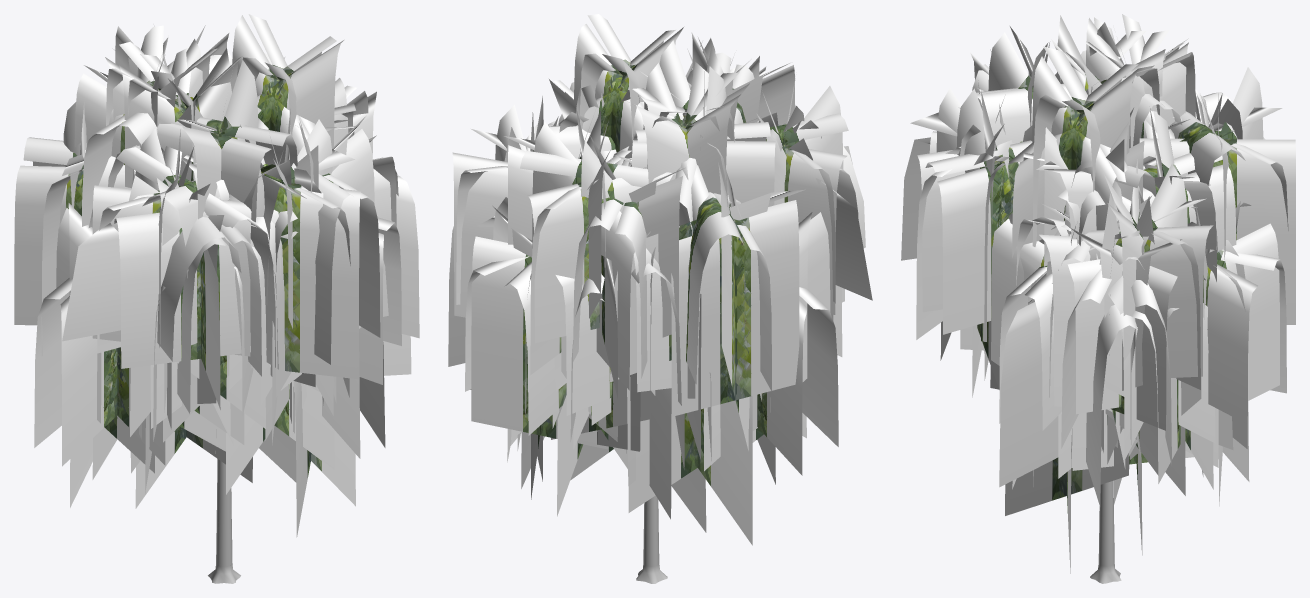
The model's file is White_Willow_Model_0.obj.
3 views of the same model, side by side, from view 1: azimuth 30°, elevation 25°; view 2: azimuth 150°, elevation 25°; view 3: azimuth 270°, elevation 25° (orthographic). The views are drawn at different scales.
Visible parts, largest first — view 1: Foliage, Bark; view 2: Foliage, Bark; view 3: Foliage, Bark.
Boxes of the visible parts, bbox=[...] form: Foliage: bbox=[14, 14, 419, 537]; Bark: bbox=[208, 459, 240, 583]; Foliage: bbox=[448, 14, 872, 545]; Bark: bbox=[636, 495, 667, 583]; Foliage: bbox=[901, 14, 1295, 573]; Bark: bbox=[1090, 480, 1121, 583].
Bounding box in the file's own units: 10.94 × 15 × 10.13.
